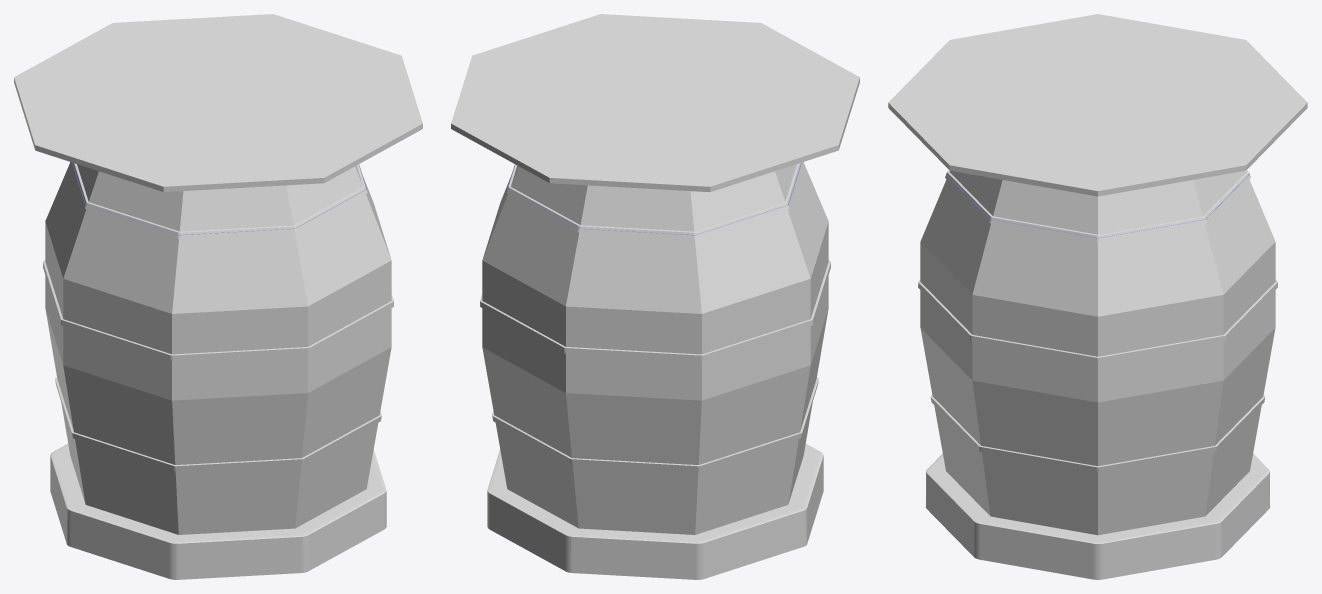
The model's file is tonneau.fbx.
3 views of the same model, side by side, from view 1: azimuth 30°, elevation 25°; view 2: azimuth 150°, elevation 25°; view 3: azimuth 270°, elevation 25° (orthographic).
Visible parts, largest first — view 1: Cylinder; view 2: Cylinder; view 3: Cylinder.
Boxes of the visible parts, bbox=[...] form: Cylinder: bbox=[14, 14, 422, 579]; Cylinder: bbox=[451, 14, 859, 579]; Cylinder: bbox=[888, 14, 1307, 579].
Size of the model in its own units: 243 by 259 by 243.
2 materials, 1 textured.
